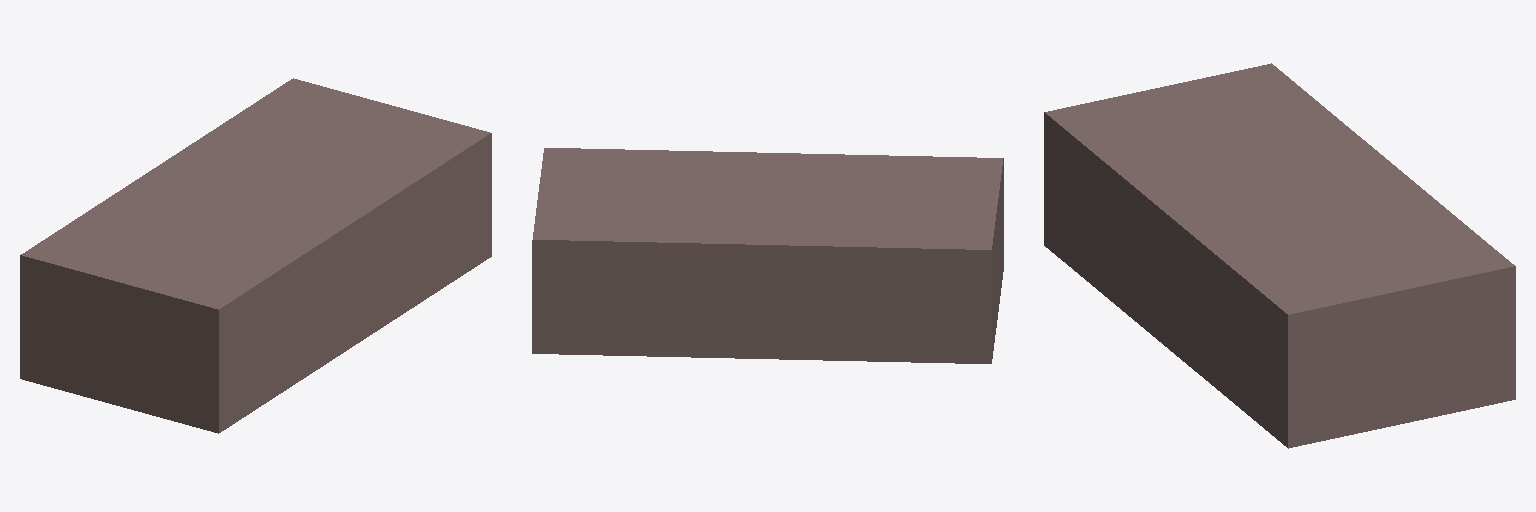
URDF robot description (Interference):
<?xml version="1.0"?>
<robot name="Interference">
  <link name="baseLink">
    <inertial>
      <origin xyz="0.0 0.0 0.0" rpy="0.0 0.0 0.0"/>
      <inertia ixx="0.0" ixy="0.0" ixz="0.0" iyy="0.0" iyz="0.0" izz="0.0"/>
      <mass value="0"/>
    </inertial>
    <visual>
      <origin xyz="0.0 0.0 0.0" rpy="0.0 0.0 0.469942626625361"/>
      <geometry>
        <box size="0.03649779419111103 0.01729937195717724 0.01"/>
      </geometry>
      <material name="color">
        <color rgba="0.5494127944182775 0.4732776460603654 0.45954862314514333 1.0"/>
      </material>
    </visual>
  </link>
</robot>

--- Render facts (derived) ---
The picture shows the robot from 3 angles, left to right: view 1: azimuth 30°, elevation 25°; view 2: azimuth 150°, elevation 25°; view 3: azimuth 270°, elevation 25°; orthographic projection.
Robot: Interference — 1 links, 0 joints (none); root link baseLink; default pose: every joint at zero.
Links seen in each view (by area): view 1: baseLink; view 2: baseLink; view 3: baseLink.
Boxes of the visible links, x1=… form: baseLink: x1=20, y1=78, x2=491, y2=433; baseLink: x1=532, y1=148, x2=1003, y2=363; baseLink: x1=1044, y1=63, x2=1515, y2=448.
Bounding box of the posed robot: 0.0404 × 0.032 × 0.01 m (x, y, z).
Geometry: primitives only (box / cylinder / sphere), no mesh files.